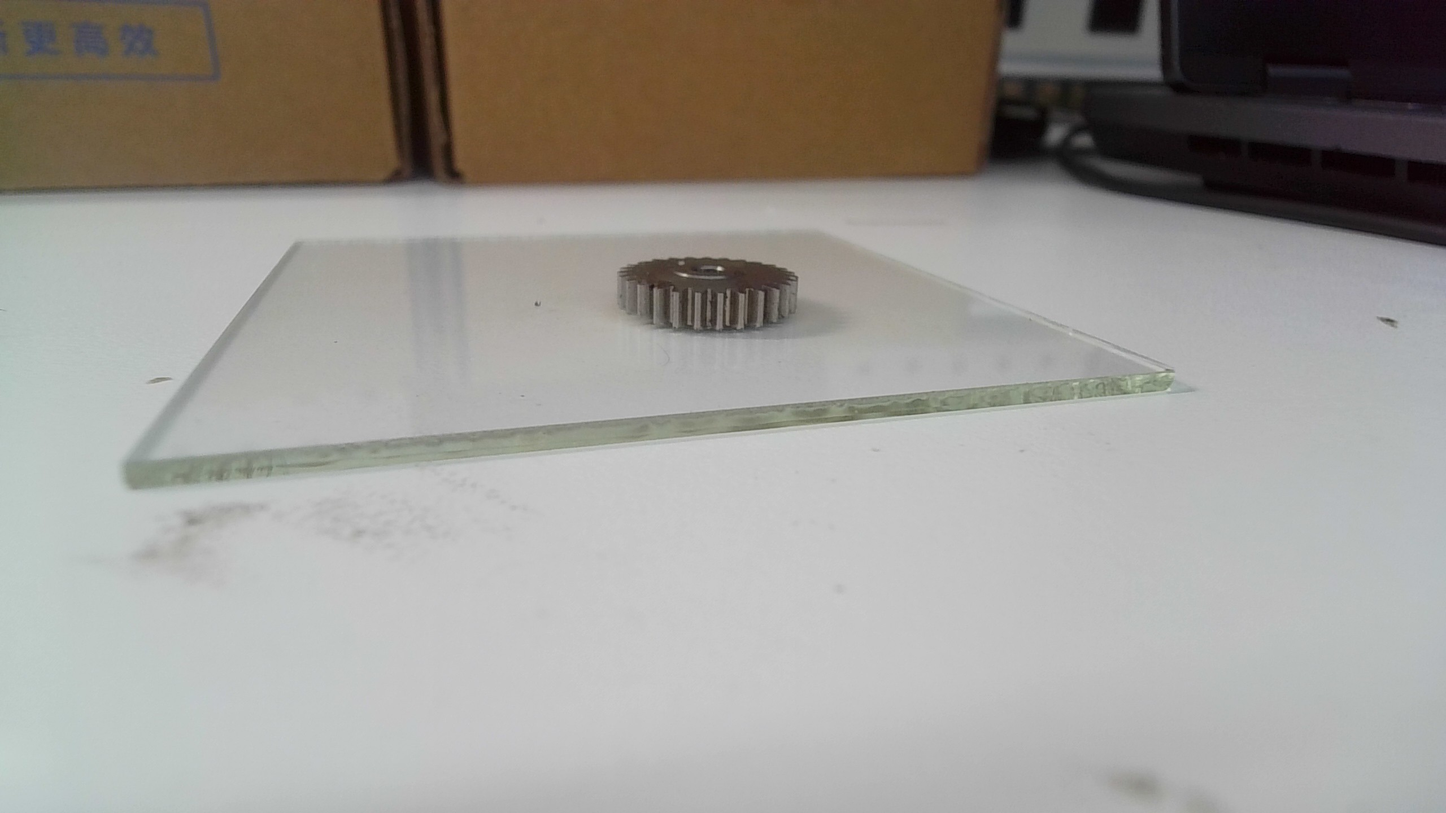gear: (616, 255, 802, 337)
